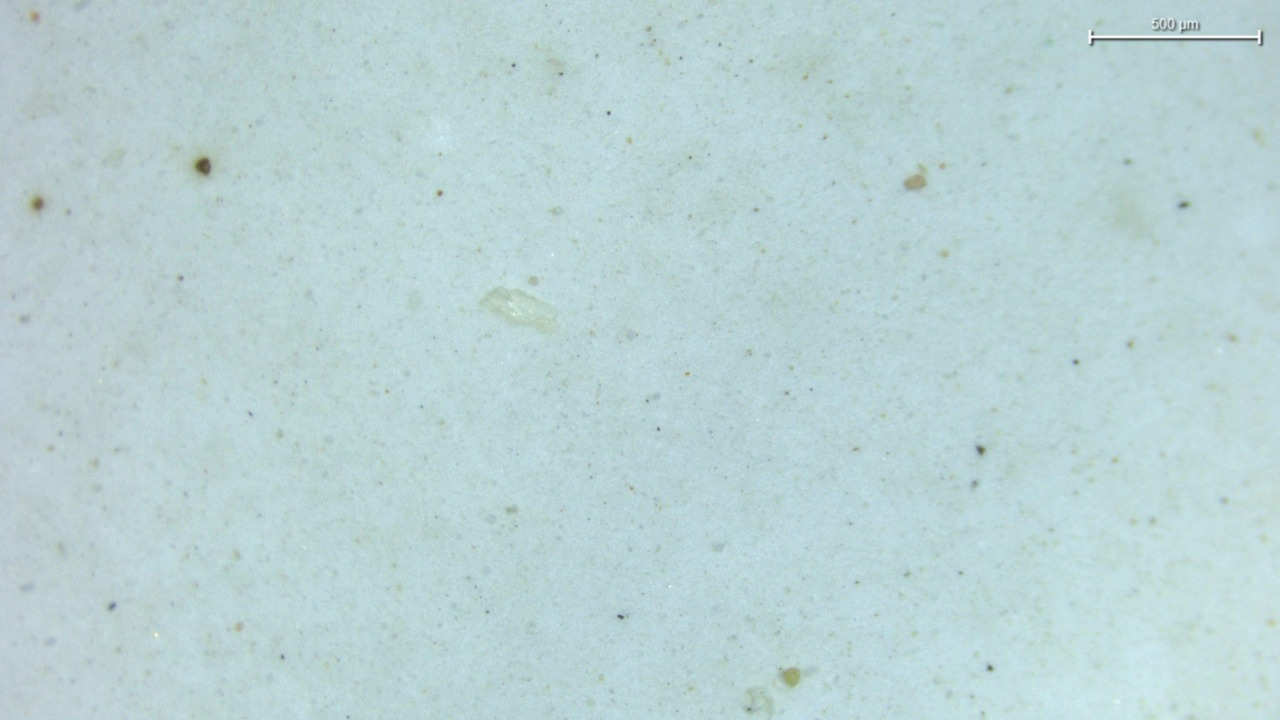microplastic_fragment: (480, 287, 559, 332)
